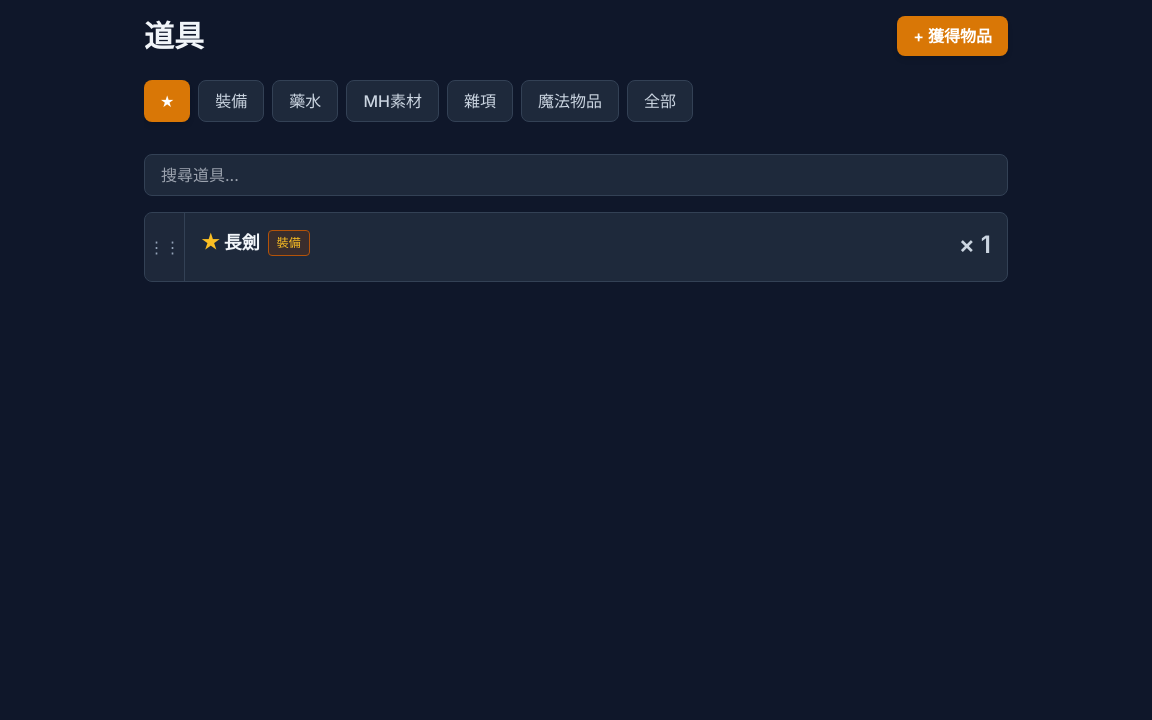
Test: ItemsPage › 有物品時點物品卡會打開詳情 modal（編輯、刪除）
This screenshot has width=1152, height=720.
Click the heading "★ 長劍": (230, 243) [201,229,260,257]
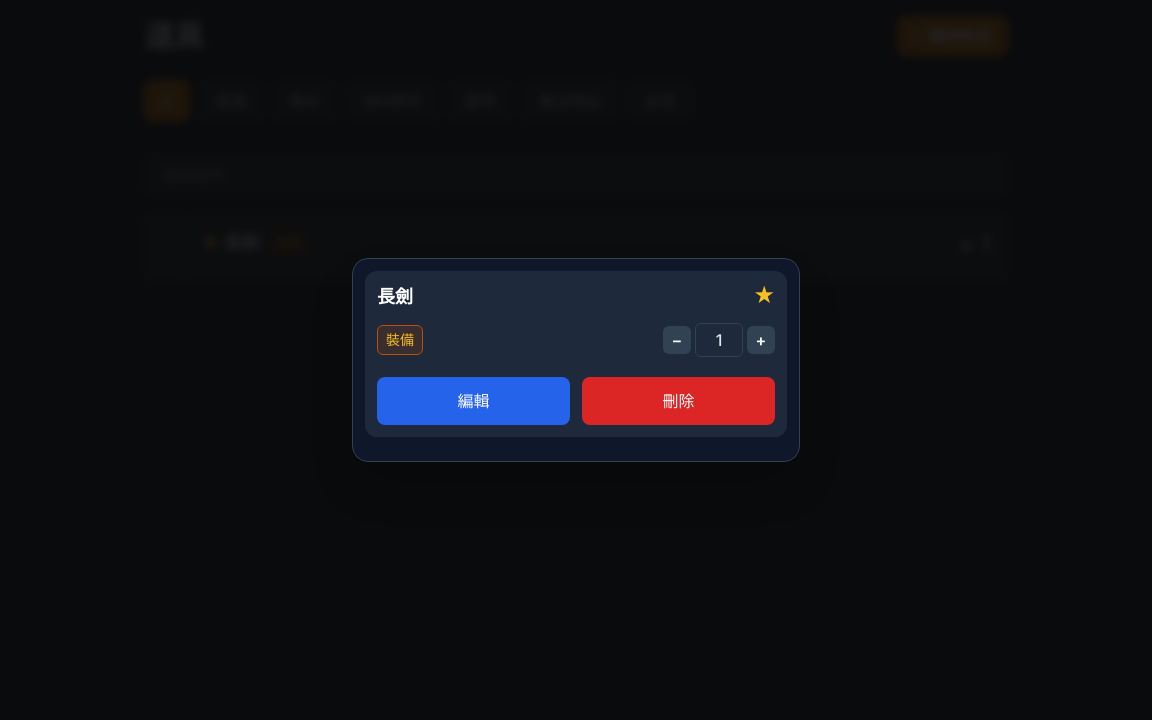
Expected: the button "編輯" is shown, [377,377,570,425]
Expected: the button "刪除" is shown, [582,377,775,425]
